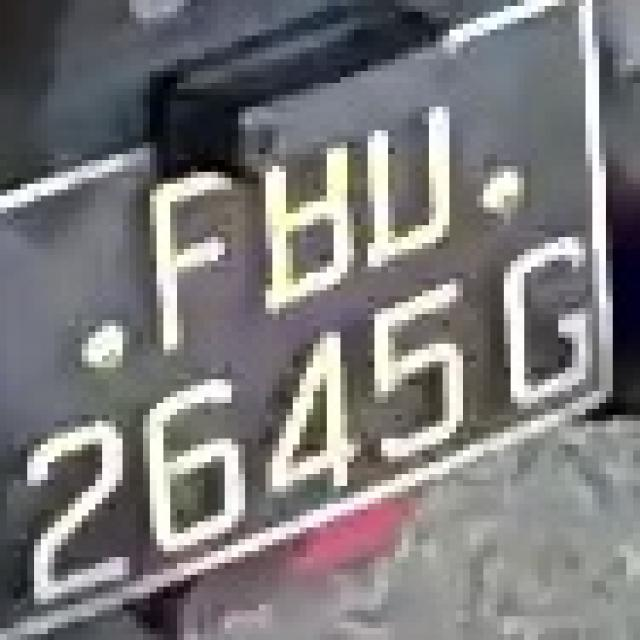2: (20, 397, 143, 593)
4: (245, 314, 381, 510)
5: (361, 266, 476, 438)
6: (129, 362, 252, 557)
B: (245, 118, 375, 326)
D: (347, 77, 470, 261)
F: (129, 160, 252, 361)
G: (490, 231, 613, 433)
